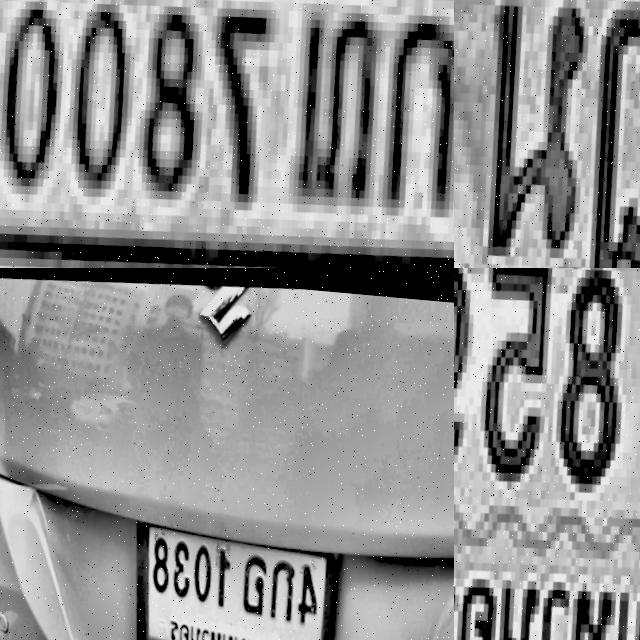license-plate: (0, 0, 454, 268), (454, 268, 640, 640), (454, 0, 640, 268), (121, 494, 360, 640)
